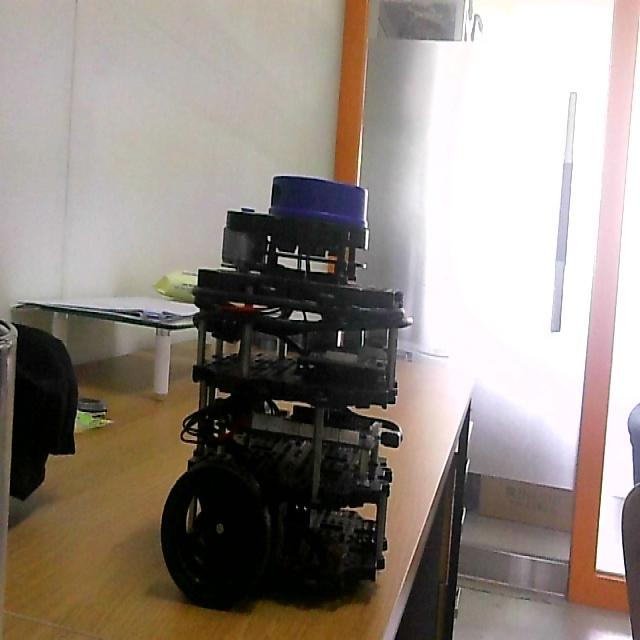turtle: (157, 173, 416, 614)
